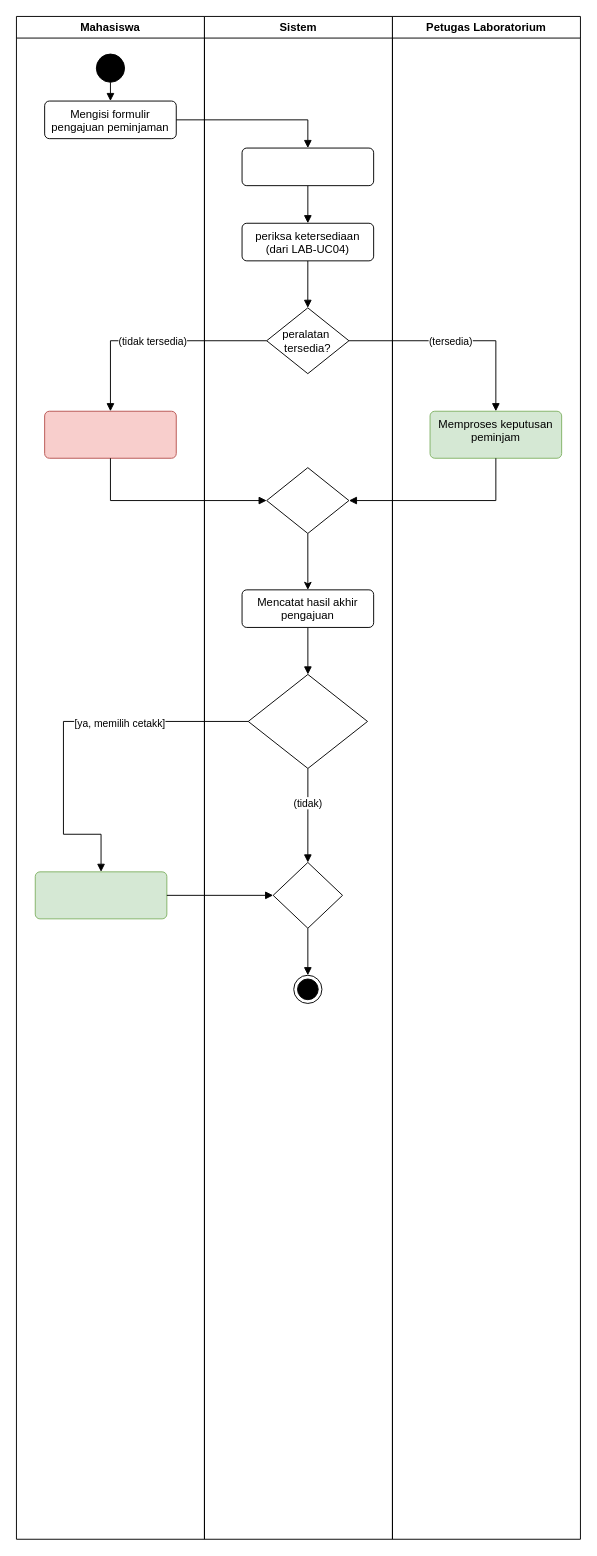
The diagram is 597 pixels wide and 1556 high, and some of its shapes have lost their labels. The centre of each missing label's shape, as x and y in pixels:
Cetak Bukti Pengajuan (dari LAB-UC05): the point at 100,895
Mahasiswa memilih cetak bukti?: the point at 307,721
Menerima pemberitahuan pengajuan tidak terpenuhi: the point at 110,434
Menyimpanan data pengajuan peminjaman: the point at 307,166
